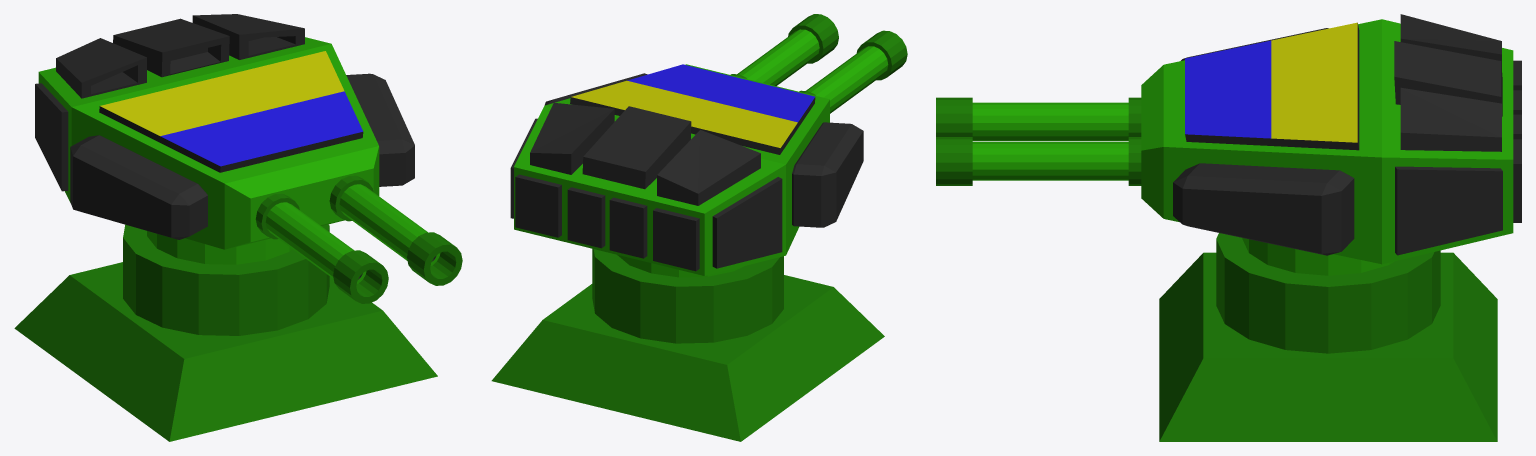
The model's file is Turret.fbx.
3 renders of one model, left to right at view 1: azimuth 30°, elevation 25°; view 2: azimuth 150°, elevation 25°; view 3: azimuth 270°, elevation 25°, orthographic. The views are drawn at different scales.
Visible parts, largest first — view 1: Gun_23.001, Cube.223; view 2: Gun_23.001, Cube.223; view 3: Gun_23.001, Cube.223.
Boxes of the visible parts, x1,y1,x2,y2 form: Gun_23.001: (35,14,462,303); Cube.223: (14,224,437,441); Gun_23.001: (510,14,907,277); Cube.223: (491,249,884,441); Gun_23.001: (936,14,1521,275); Cube.223: (1159,233,1497,441).
Size of the model in its own units: 155 by 135 by 230.
